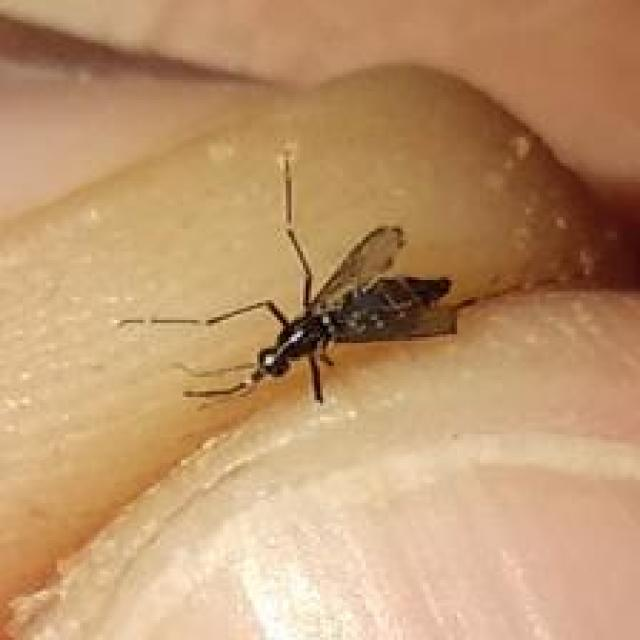Aedes albopictus: (116, 148, 461, 408)
